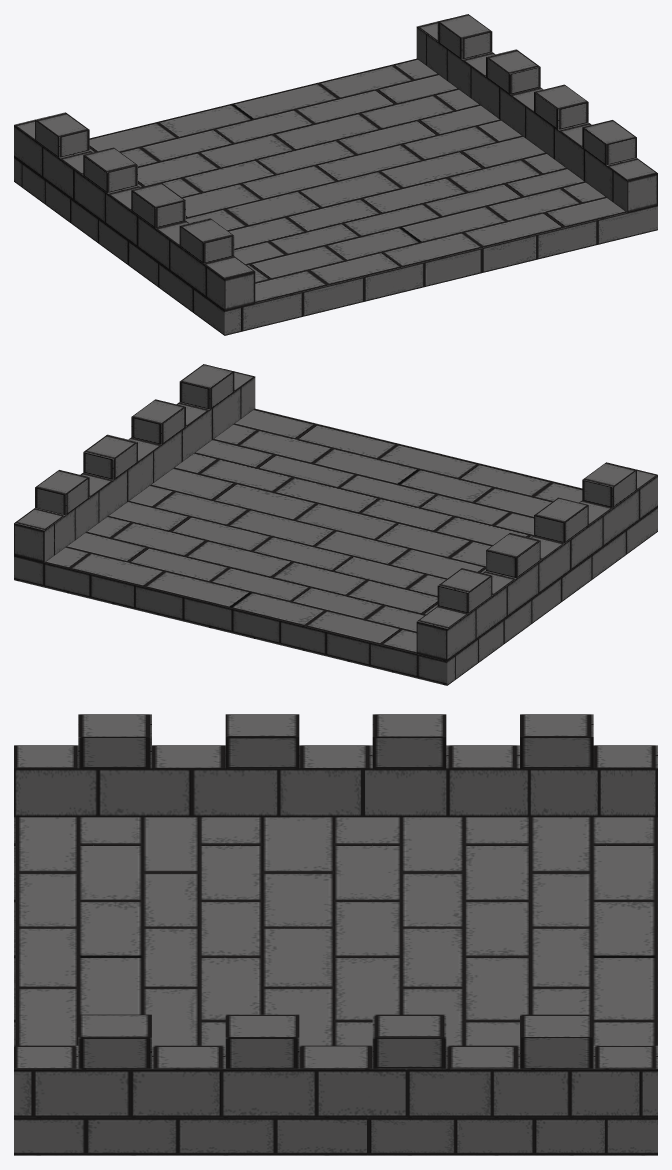
Rendered from bridgeSlab.fbx.
3 renders of one model, top to bottom at view 1: azimuth 30°, elevation 25°; view 2: azimuth 150°, elevation 25°; view 3: azimuth 270°, elevation 25°, orthographic. The views are drawn at different scales.
Parts seen in each view (by area): view 1: bridgeSlab_low; view 2: bridgeSlab_low; view 3: bridgeSlab_low.
Boxes of the visible parts, x1=… form: bridgeSlab_low: x1=14, y1=14, x2=657, y2=335; bridgeSlab_low: x1=14, y1=364, x2=657, y2=685; bridgeSlab_low: x1=14, y1=714, x2=657, y2=1155.
Bounding box in the file's own units: 906 × 155 × 763.
Materials: 1 (1 with a texture image).
